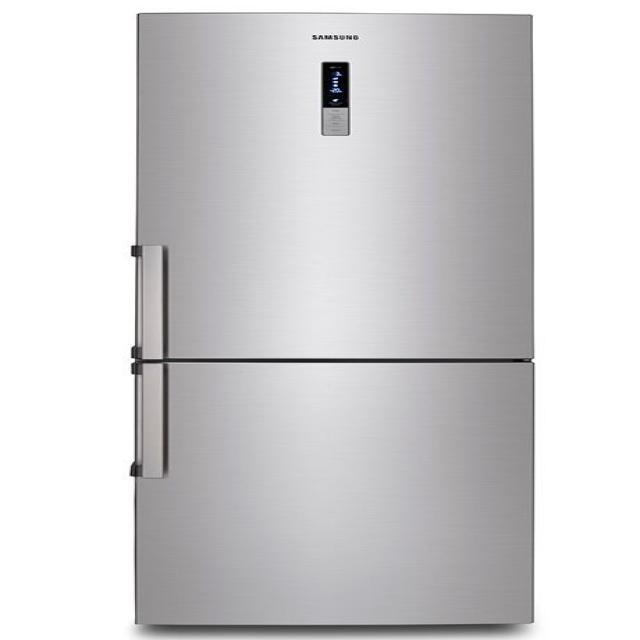obstacle: (129, 11, 537, 627)
